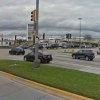Car: (22, 47, 54, 65)
